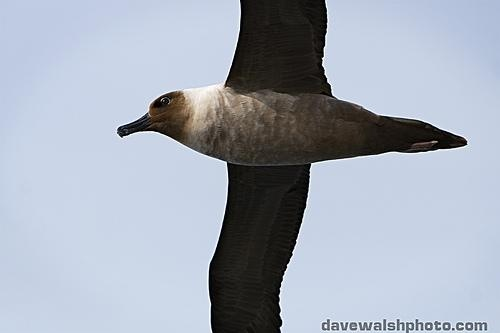bird: (115, 1, 470, 330)
